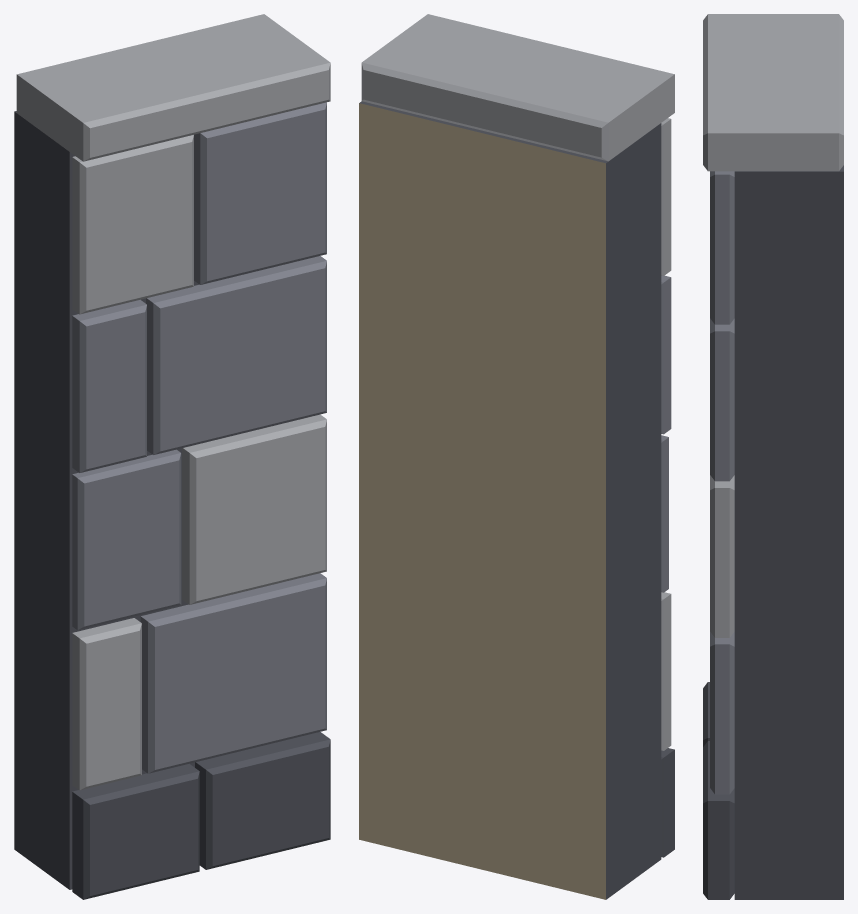
The model's file is WallStraight_12.glb.
3 views of the same model, side by side, from view 1: azimuth 30°, elevation 25°; view 2: azimuth 150°, elevation 25°; view 3: azimuth 270°, elevation 25° (orthographic).
Parts seen in each view (by area): view 1: WallStraight_12; view 2: WallStraight_12; view 3: WallStraight_12.
Part boxes in pixels (bbox=[...]): WallStraight_12: bbox=[14, 14, 330, 899]; WallStraight_12: bbox=[359, 14, 674, 899]; WallStraight_12: bbox=[703, 14, 843, 899].
Bounding box in the file's own units: 4 × 12 × 2.
